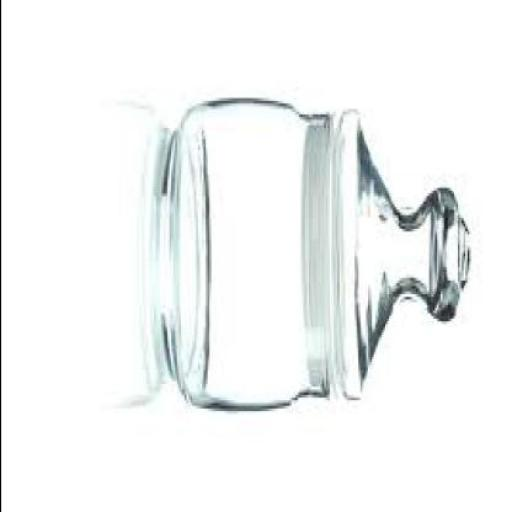glass: (159, 98, 474, 405)
